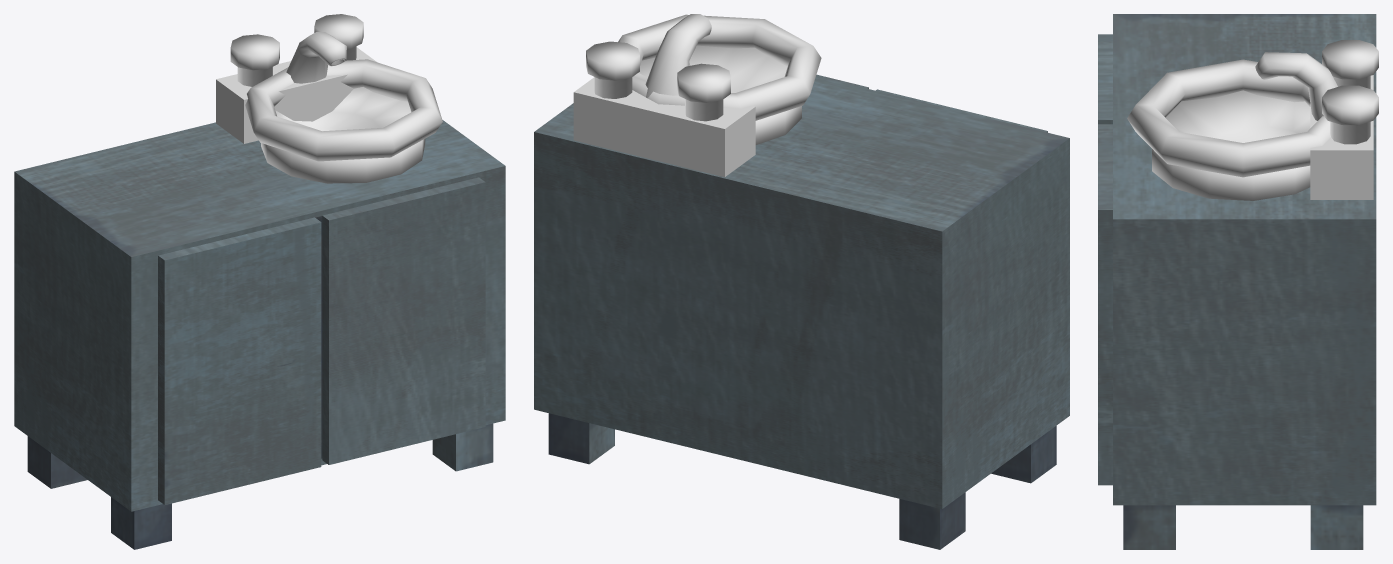
File: sink.glb
3 renders of one model, left to right at view 1: azimuth 30°, elevation 25°; view 2: azimuth 150°, elevation 25°; view 3: azimuth 270°, elevation 25°, orthographic. The views are drawn at different scales.
Visible parts, largest first — view 1: sink-col; view 2: sink-col; view 3: sink-col.
Boxes of the visible parts, x1,y1,x2,y2 form: sink-col: (14,14,505,549); sink-col: (534,14,1069,549); sink-col: (1098,14,1378,549).
Bounding box in the file's own units: 1.2 × 1.21 × 0.6938.
Materials: 3 (1 with a texture image).
